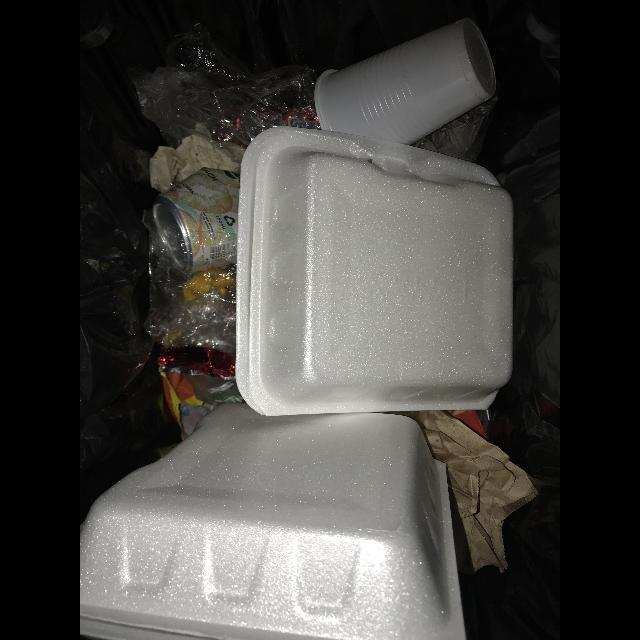metal: (152, 167, 240, 275)
paper: (397, 410, 538, 574), (150, 135, 246, 193)
plastic: (314, 18, 497, 146)
styrofoam: (80, 403, 467, 640), (234, 126, 514, 419)
